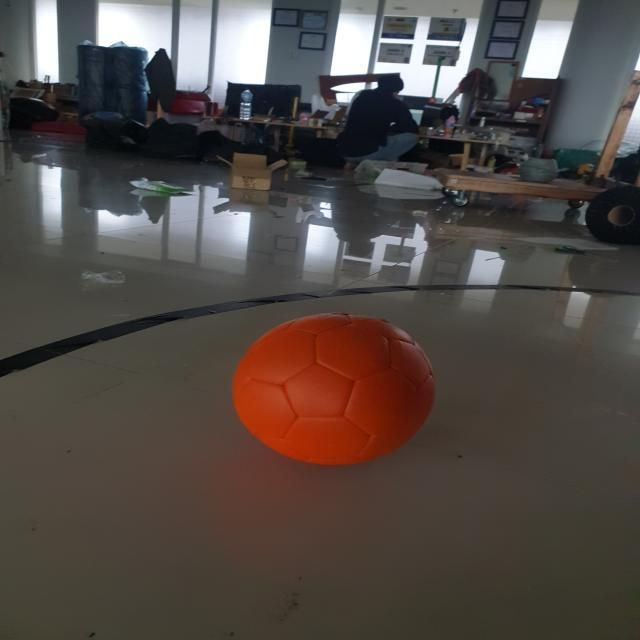bola: (226, 306, 442, 474)
